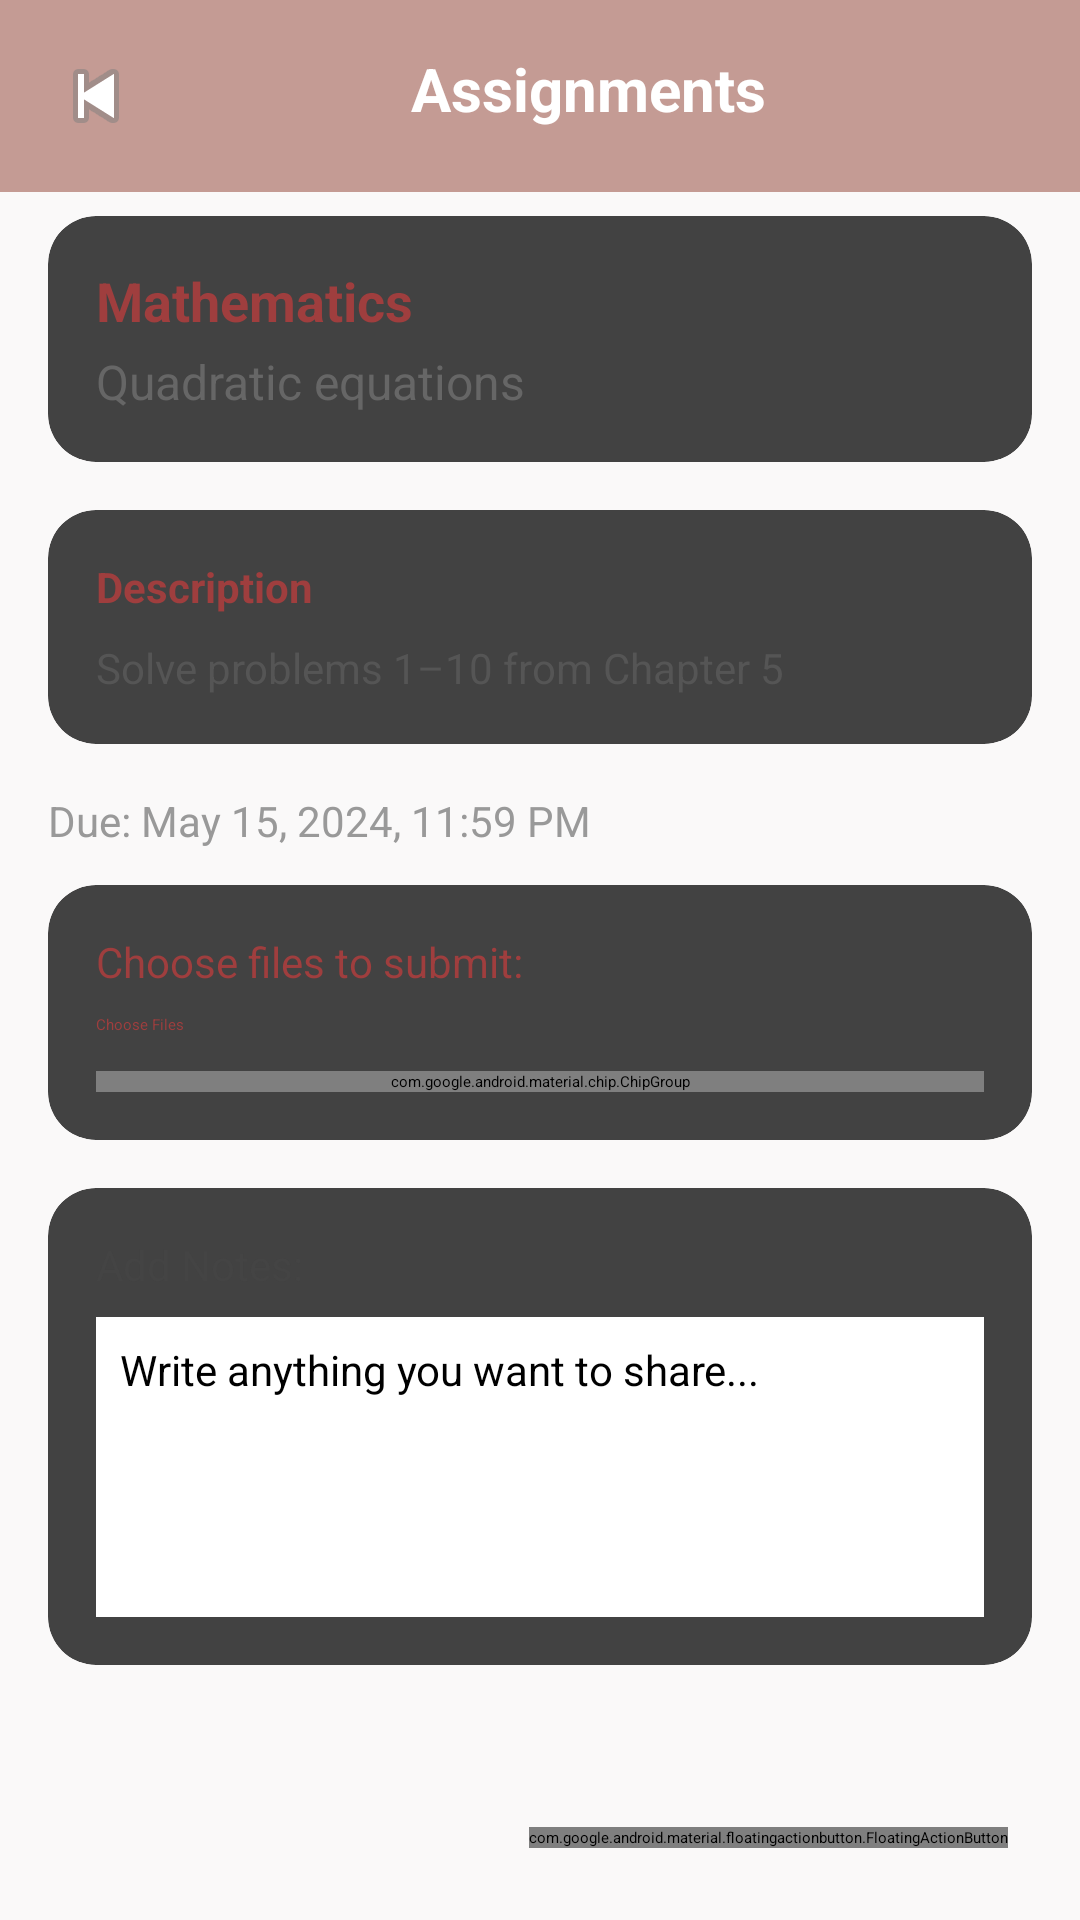

Where to tap for icons on this 1080px×1920px app screen, as point (x, y):
Back: point (96, 96)
